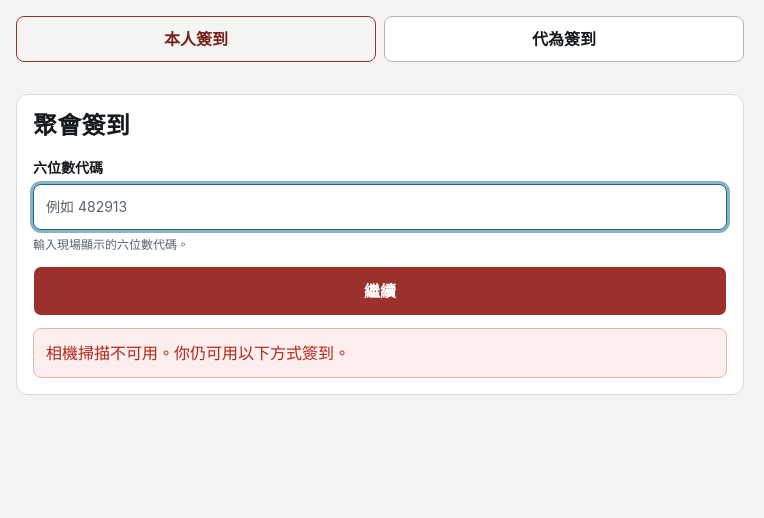
Test: Scanner mode boundary › shows the accessible Self/Operator switch only for eligible access
Step 1. Click the tab "代為簽到" → x=564, y=39, box left=384, top=16, right=744, bottom=62
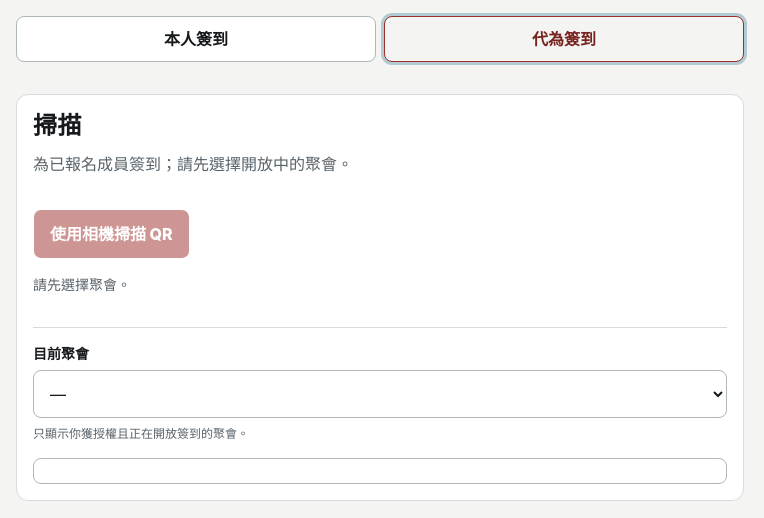
Now the dropdown labelled "目前聚會" is shown, box left=33, top=370, right=727, bottom=418
Step 2. Click the tab "本人簽到" → x=196, y=39, box left=16, top=16, right=376, bottom=62
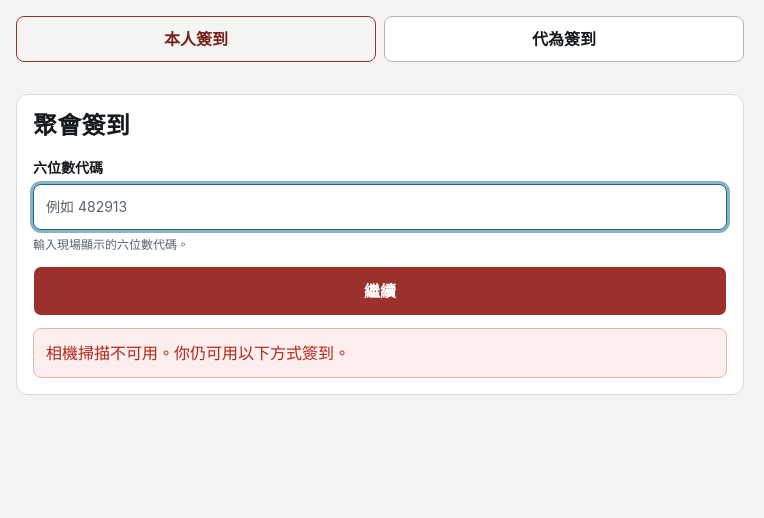
Now the text labelled "目前聚會" is gone
